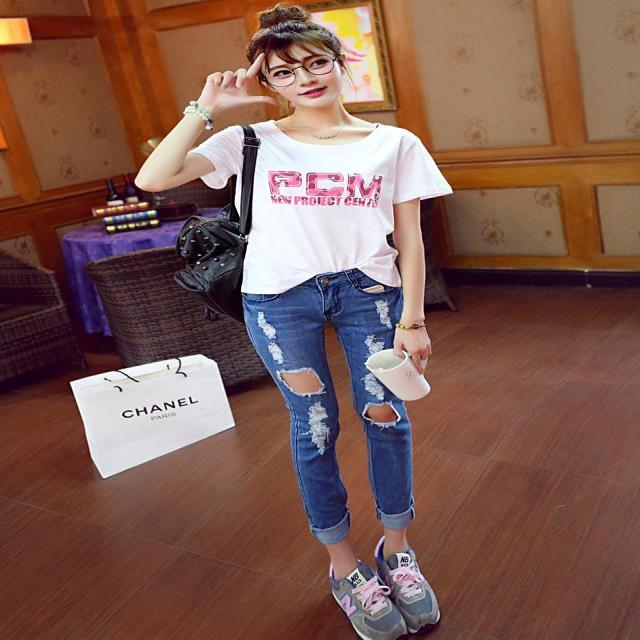short sleeve top: (189, 120, 452, 293)
trousers: (247, 265, 415, 538)
